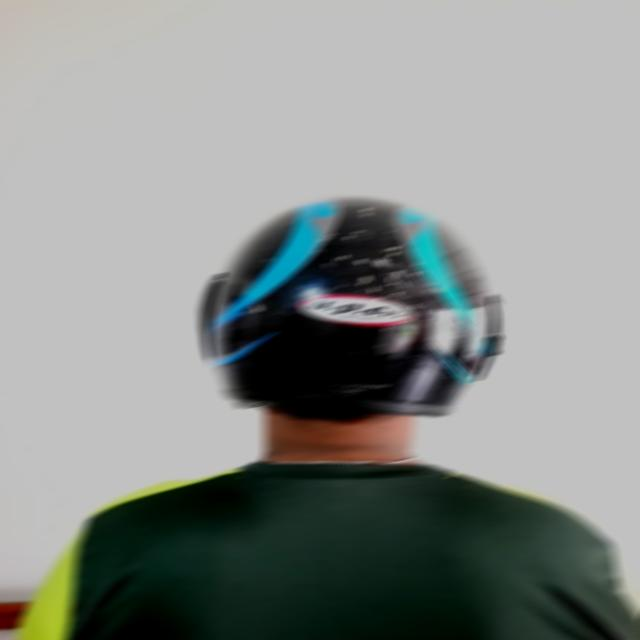With Helmet: (196, 196, 504, 417)
